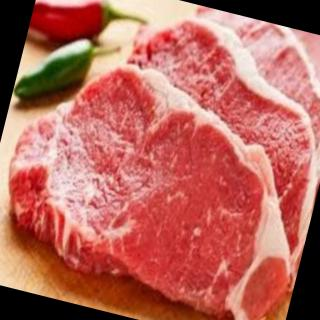Daging Sapi: (1, 1, 320, 320), (1, 43, 320, 320)
